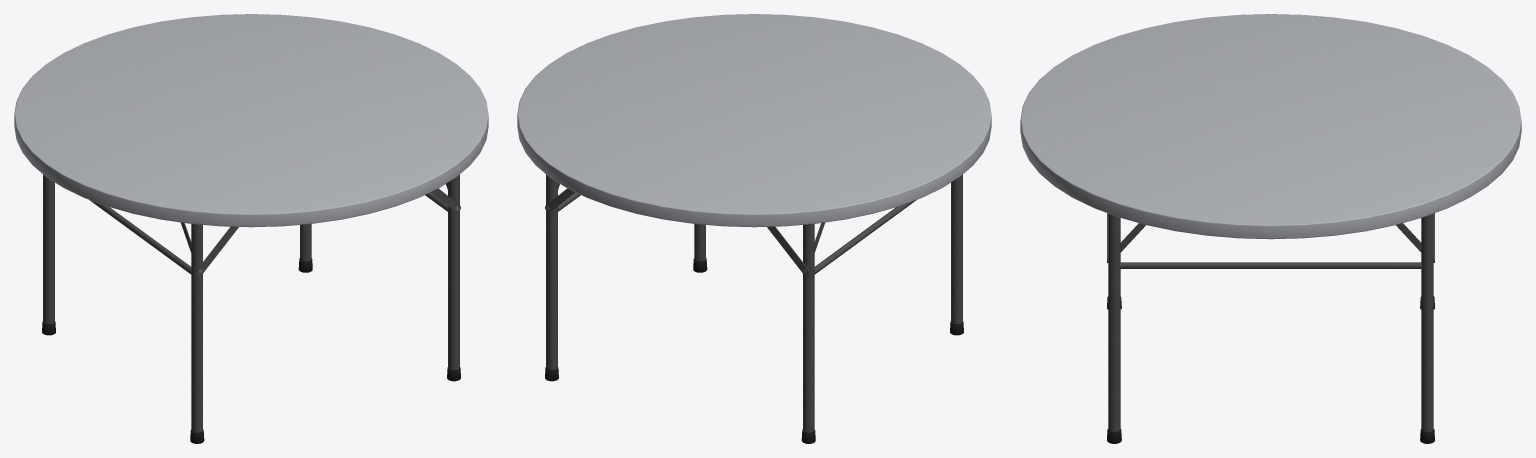
Rendered from EventTable03.FBX.
3 views of the same model, side by side, from view 1: azimuth 30°, elevation 25°; view 2: azimuth 150°, elevation 25°; view 3: azimuth 270°, elevation 25° (orthographic). The views are drawn at different scales.
Parts seen in each view (by area): view 1: EventTable03; view 2: EventTable03; view 3: EventTable03.
Part boxes in pixels (x1,y1,x2,y2): EventTable03: (14, 14, 488, 443); EventTable03: (517, 14, 991, 443); EventTable03: (1020, 14, 1521, 443).
Size of what is drawn, in the model's own units: 1.6 by 0.9 by 1.6.
